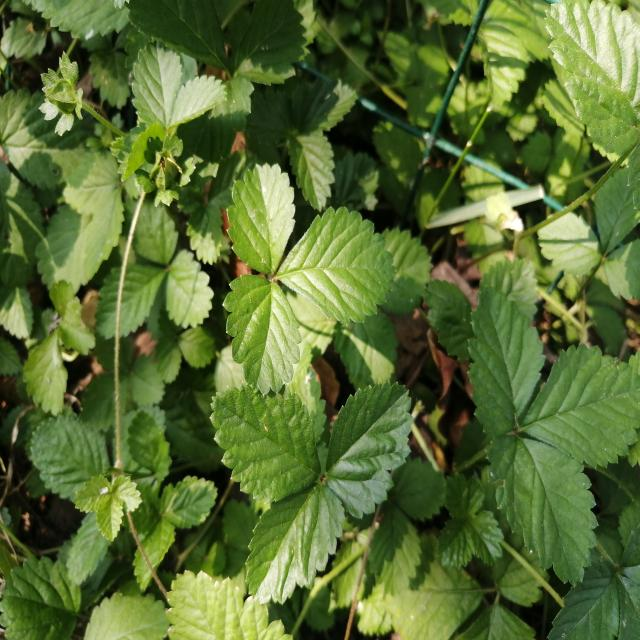Mock_strawberry: (471, 296, 635, 580)
